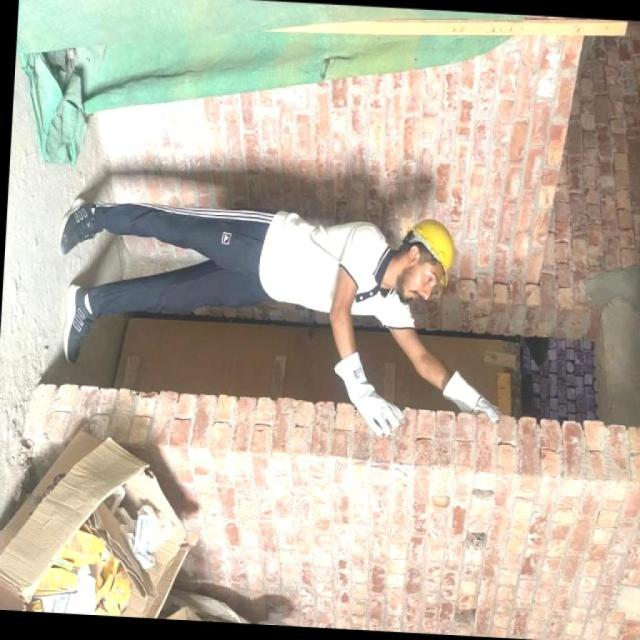Gloves-Detection: (333, 347, 400, 432), (436, 365, 498, 429)
